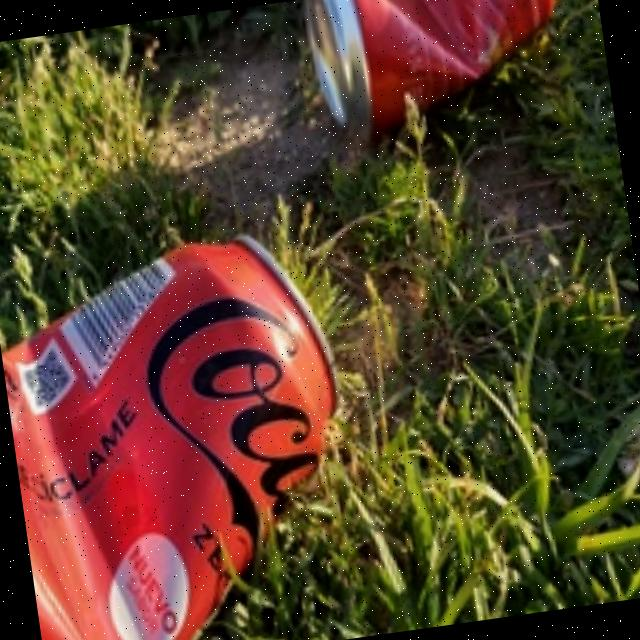Metal: (0, 220, 370, 640), (299, 0, 590, 154)
